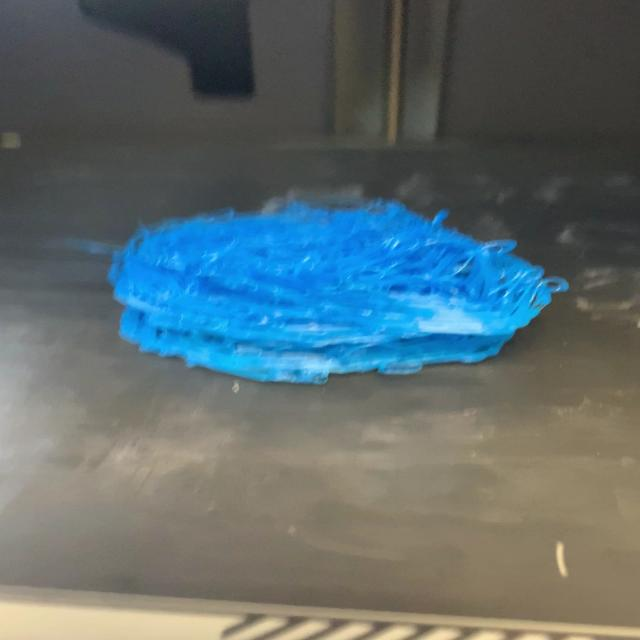spaghetti: (104, 194, 572, 386)
